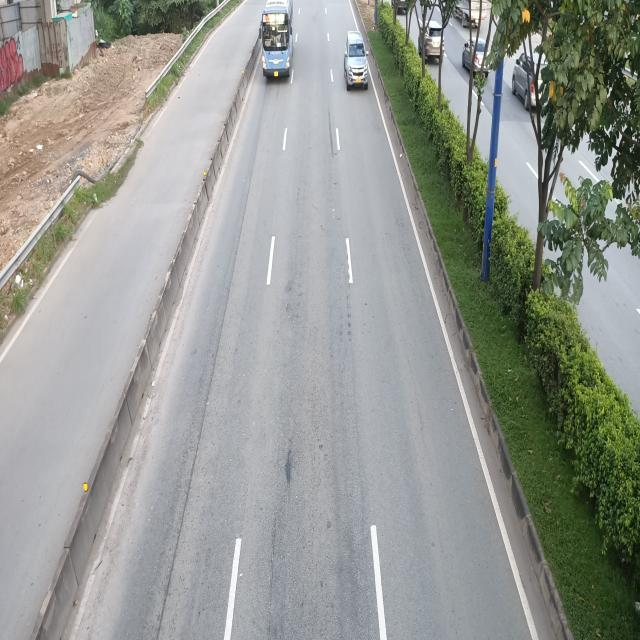car: (343, 32, 369, 90)
coach: (259, 2, 296, 80)
